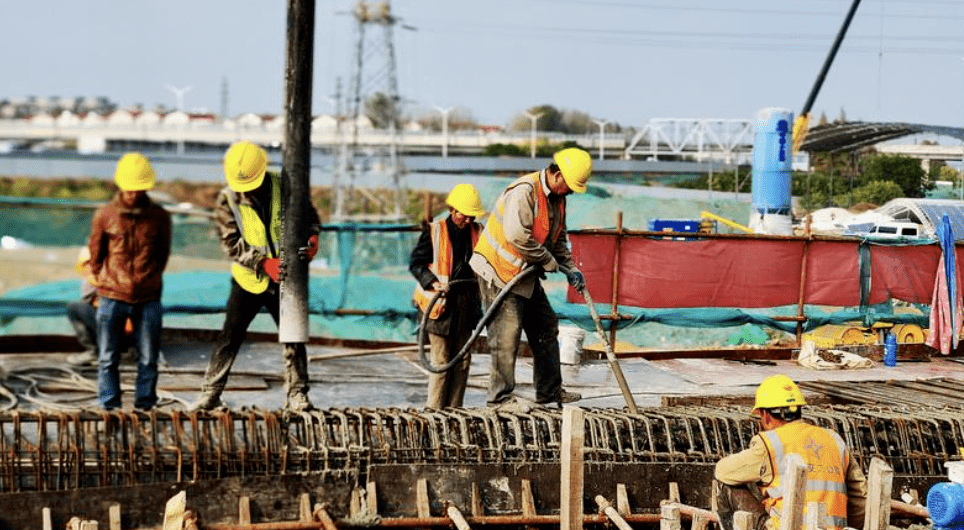ordinary_clothes: (96, 201, 164, 302)
person: (189, 137, 323, 412), (468, 145, 597, 415), (712, 372, 869, 530), (87, 149, 174, 412), (407, 181, 486, 411)
reflective_vest: (469, 170, 568, 289), (757, 420, 851, 530), (407, 218, 486, 320), (218, 181, 283, 295)
safety_helmet: (749, 374, 807, 431), (220, 138, 271, 197), (111, 148, 159, 205), (546, 145, 595, 199), (444, 180, 486, 230)
